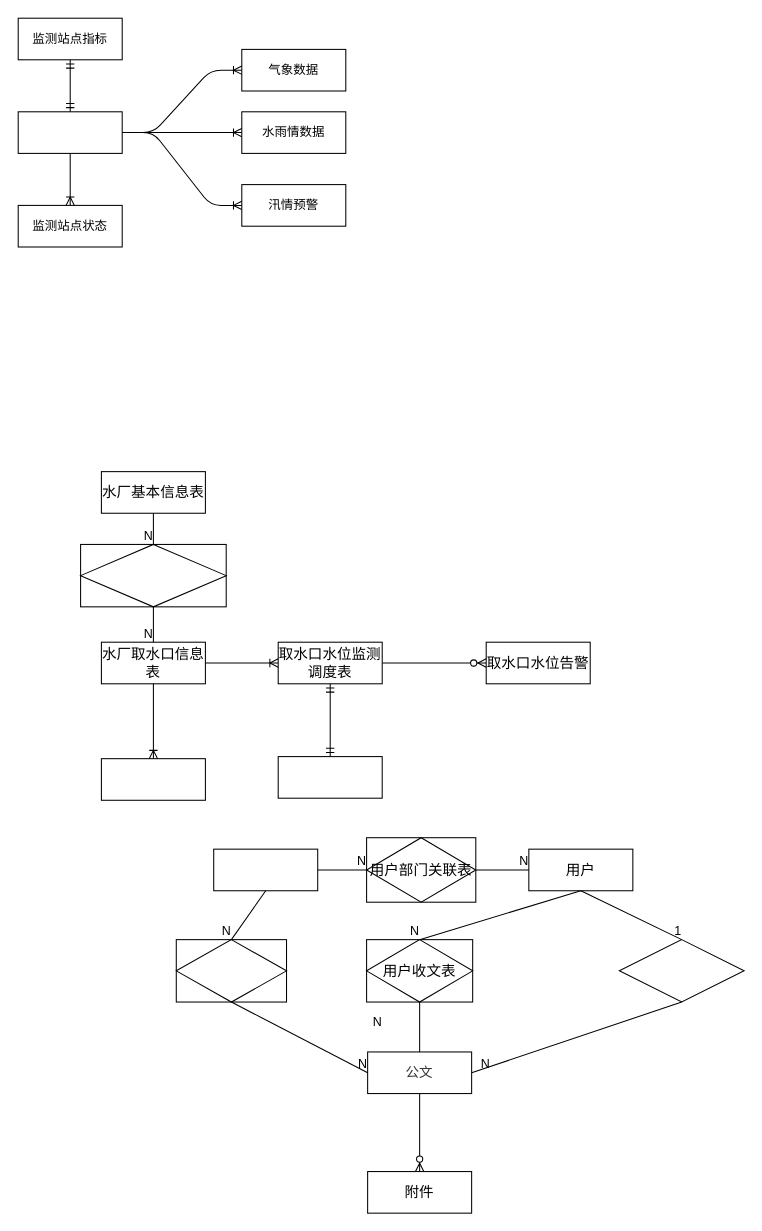
Some shapes in this 762 by 1231 pixel diagram are drawn without their labels. The centre of each missing label's shape, as x and y in pixels:
"发文" goes at [681,970].
"取水口预警规则表" goes at [329,777].
"水厂与取水口关系表" goes at [153,575].
"水厂取水口水位数据表" goes at [152,779].
"监测站点" goes at [69,132].
"部门" goes at [265,869].
"部门收文表" goes at [231,970].
